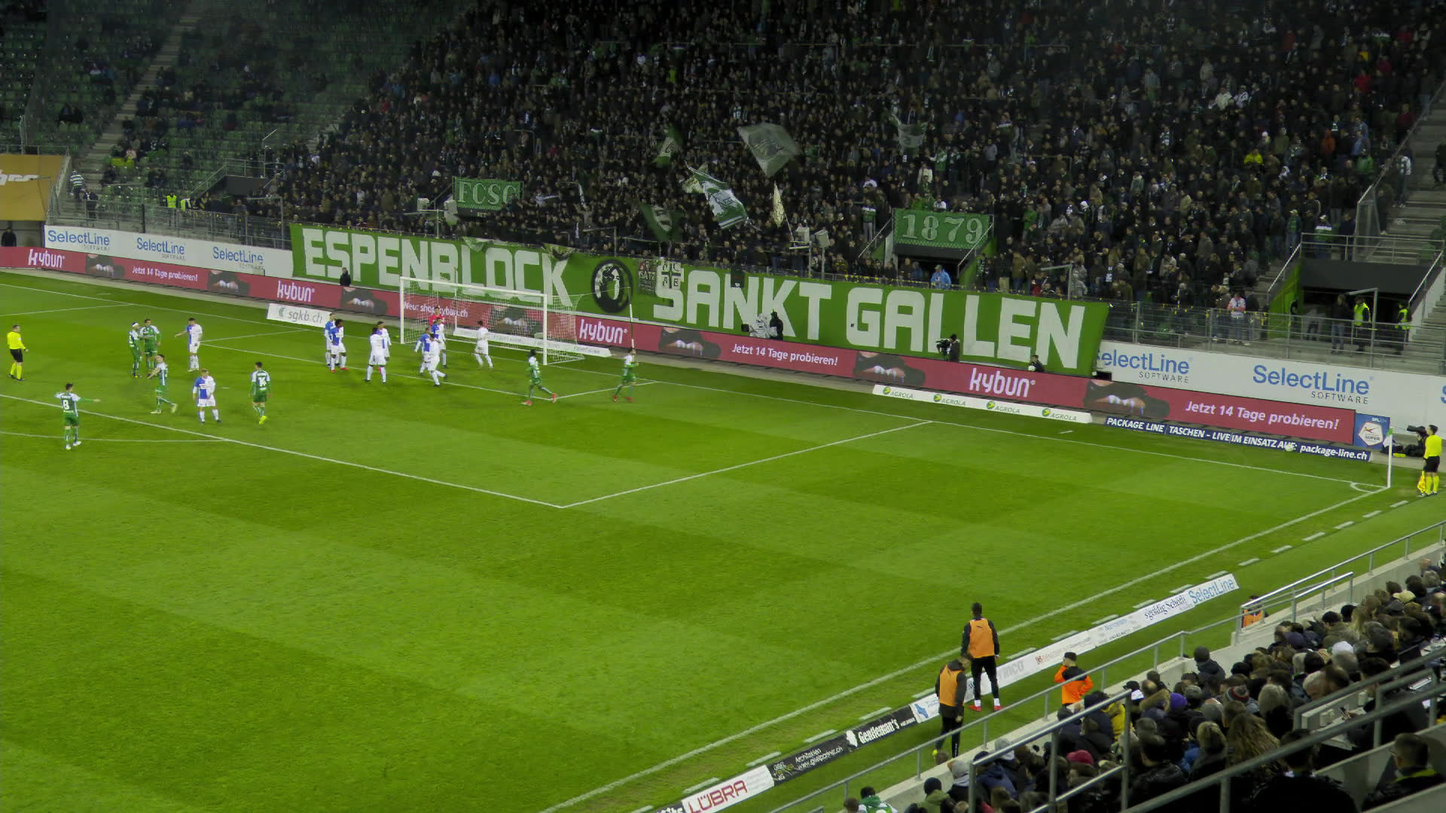player: (52, 382, 99, 449), (146, 355, 181, 414), (245, 362, 274, 427), (523, 349, 553, 405), (364, 326, 391, 384), (194, 367, 220, 422), (426, 330, 451, 385), (472, 319, 499, 369), (179, 317, 204, 370), (139, 320, 161, 379), (326, 318, 350, 372), (611, 346, 631, 401), (372, 320, 392, 374), (125, 321, 144, 376), (429, 315, 447, 367), (426, 305, 443, 357), (324, 312, 341, 364), (417, 327, 433, 377)
referee: (1417, 422, 1441, 495)
